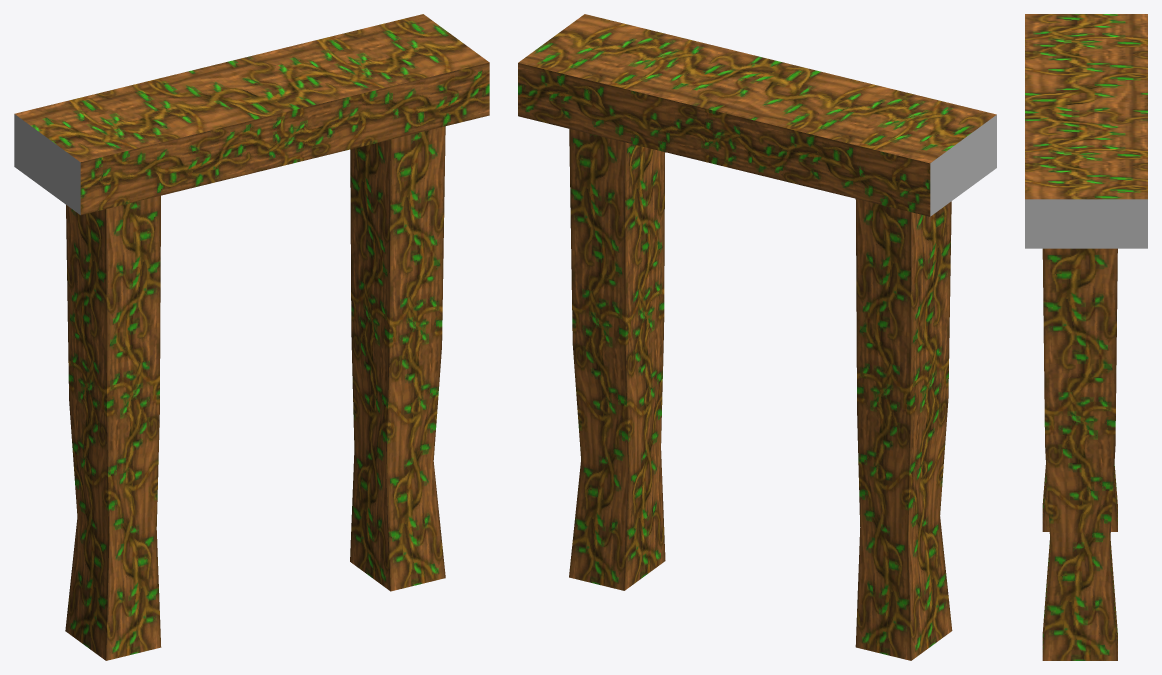
The model's file is EKH_GROTTO_PS_GR_DOORFRAME8476__GX.obj.
3 views of the same model, side by side, from view 1: azimuth 30°, elevation 25°; view 2: azimuth 150°, elevation 25°; view 3: azimuth 270°, elevation 25° (orthographic). The views are drawn at different scales.
Visible parts, largest first — view 1: orFrame8476__GX; view 2: orFrame8476__GX; view 3: orFrame8476__GX.
Boxes of the visible parts, x1,y1,x2,y2 form: orFrame8476__GX: [14, 14, 489, 660]; orFrame8476__GX: [518, 14, 996, 660]; orFrame8476__GX: [1025, 14, 1147, 660].
Bounding box in the file's own units: 212 × 255 × 59.52.
